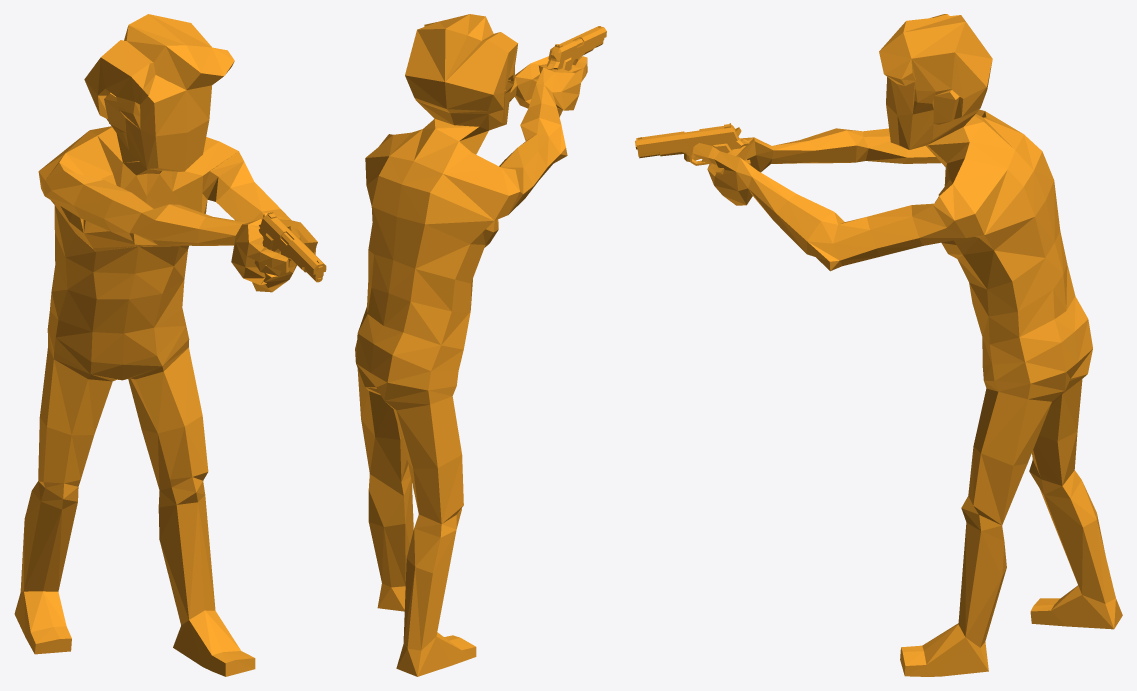
The model's file is SM_Pawn_Weapon_Male_02.fbx.
The picture shows the model from 3 angles, left to right: view 1: azimuth 30°, elevation 25°; view 2: azimuth 150°, elevation 25°; view 3: azimuth 270°, elevation 25°; orthographic projection. The views are drawn at different scales.
Visible parts, largest first — view 1: SM_Pawn_Weapon_Male_02; view 2: SM_Pawn_Weapon_Male_02; view 3: SM_Pawn_Weapon_Male_02.
Boxes of the visible parts, box(x1,y1,x2,y2) form: SM_Pawn_Weapon_Male_02: box(14, 14, 326, 676); SM_Pawn_Weapon_Male_02: box(355, 14, 606, 676); SM_Pawn_Weapon_Male_02: box(635, 14, 1122, 676).
Bounding box in the file's own units: 54.09 × 178 × 126.
